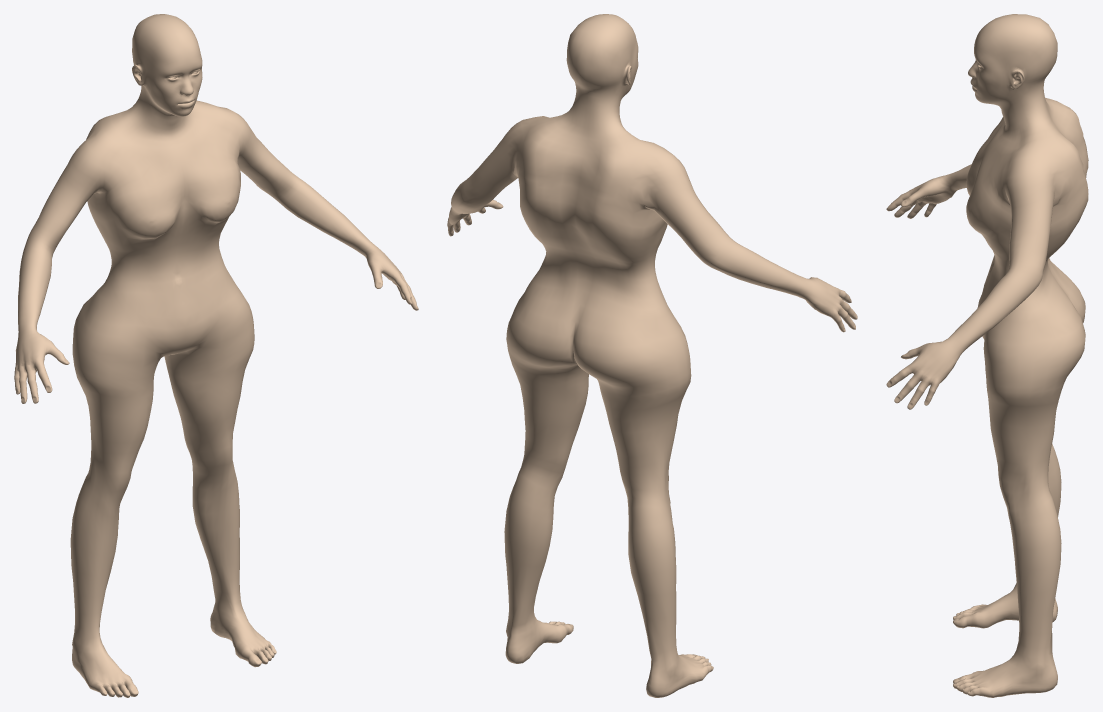
File: male_Hourglass.glb
3 views of the same model, side by side, from view 1: azimuth 30°, elevation 25°; view 2: azimuth 150°, elevation 25°; view 3: azimuth 270°, elevation 25° (orthographic).
Visible parts, largest first — view 1: male_Hourglass; view 2: male_Hourglass; view 3: male_Hourglass.
Part boxes in pixels (x1,y1,x2,y2): male_Hourglass: (14,14,418,697); male_Hourglass: (447,14,857,697); male_Hourglass: (886,14,1088,697).
Bounding box in the file's own units: 1.11 × 1.73 × 0.4944.
